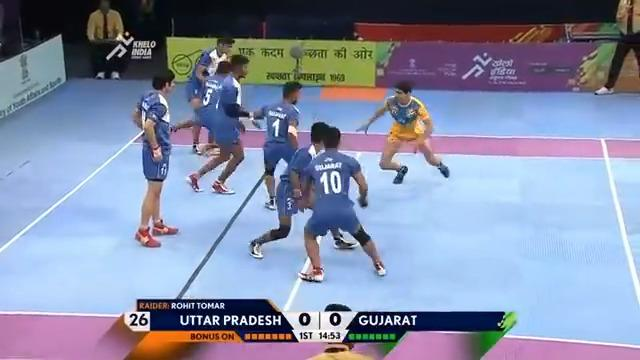Player: (247, 121, 359, 259), (296, 125, 386, 282), (185, 53, 250, 194), (131, 68, 179, 247), (169, 52, 234, 170), (250, 80, 302, 209), (593, 0, 639, 95), (186, 36, 235, 108)
Raider: (355, 80, 450, 184)
referee: (85, 0, 126, 79), (322, 303, 354, 352)
